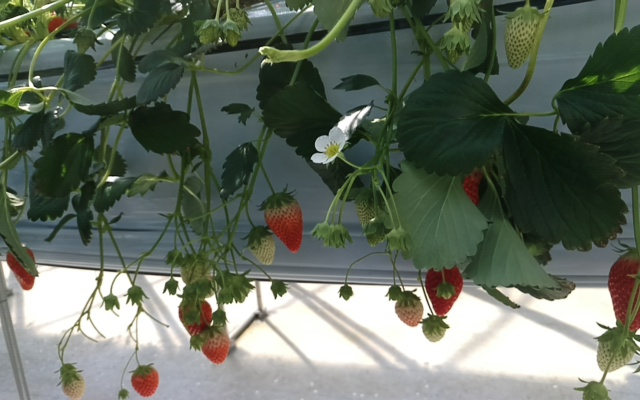GreenStrawberry: (502, 3, 543, 69), (597, 325, 637, 374), (177, 251, 216, 298), (351, 185, 386, 236), (244, 226, 277, 268), (392, 290, 425, 329), (202, 328, 230, 366), (60, 369, 86, 400), (419, 315, 446, 344)
MatureStrawberry: (606, 247, 640, 336), (262, 189, 304, 255), (423, 260, 465, 322), (177, 294, 211, 341), (4, 244, 35, 292), (130, 365, 160, 398)
